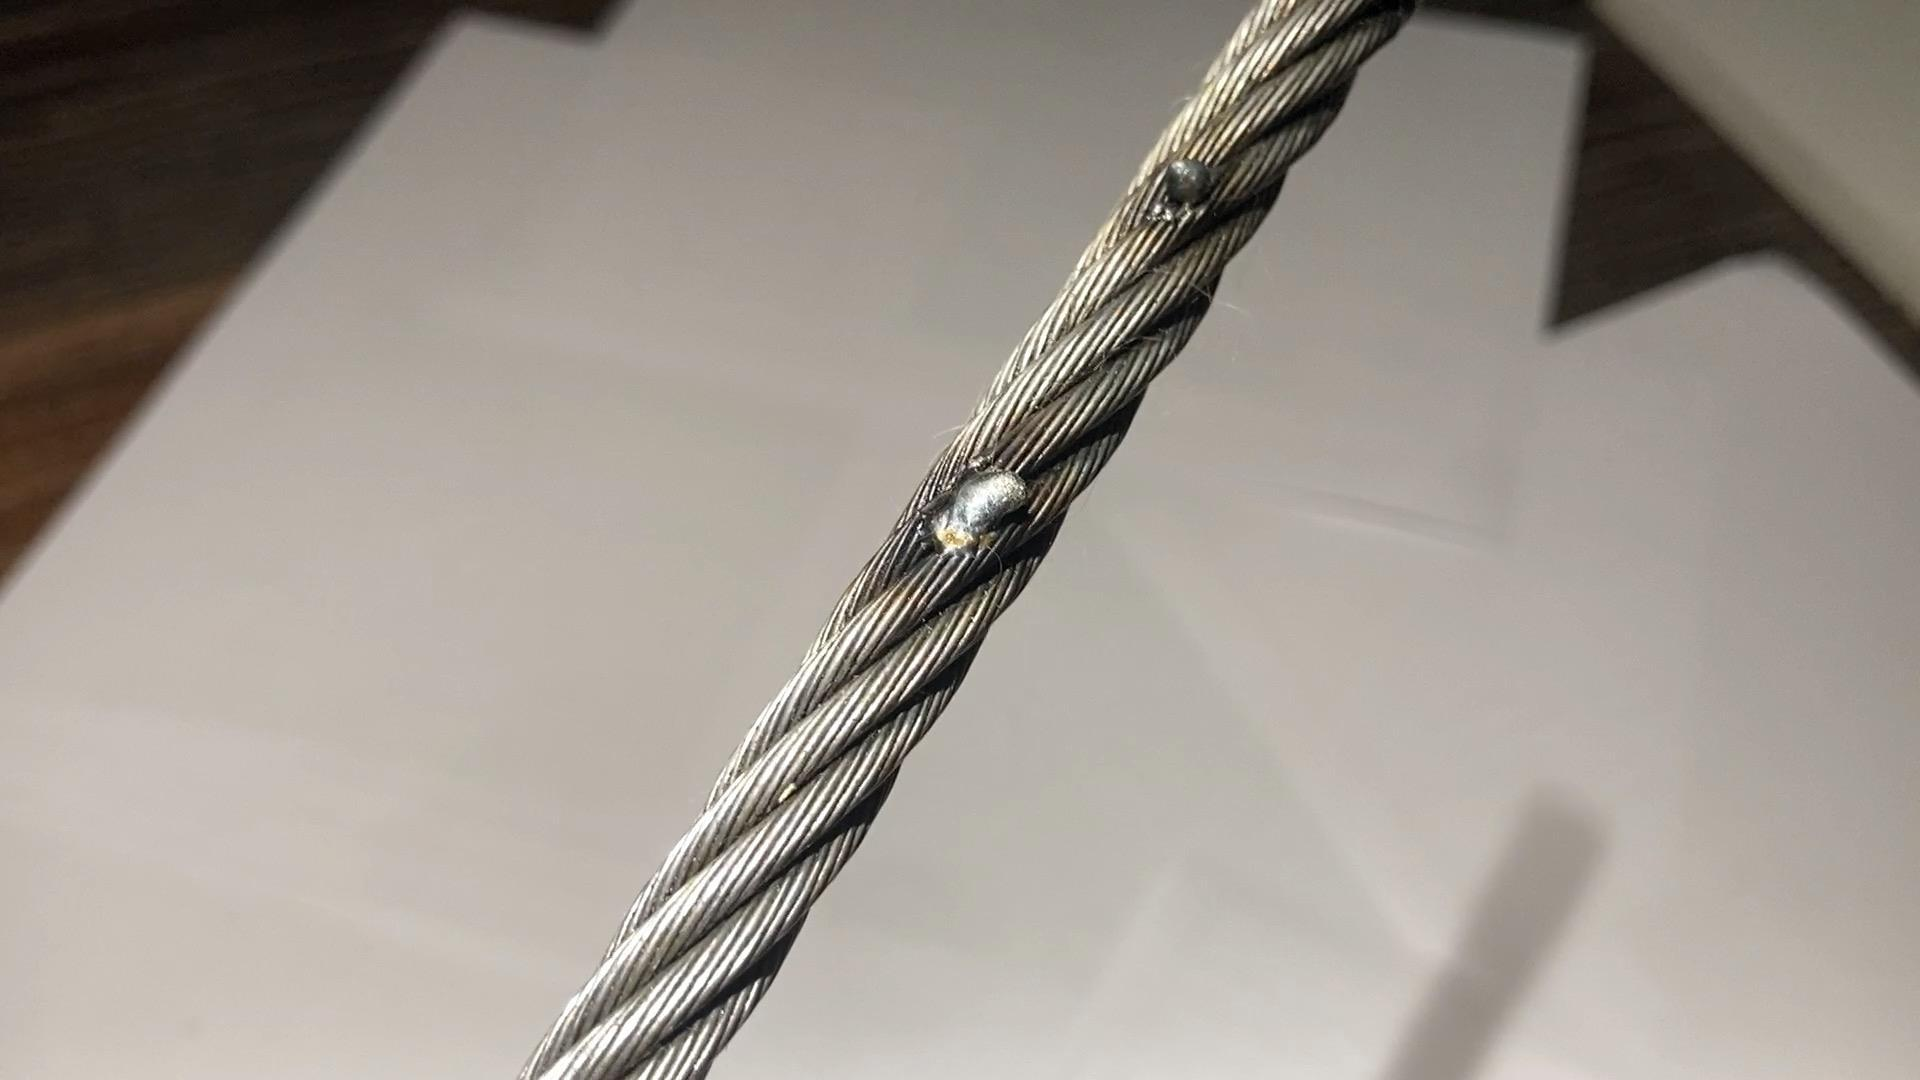thunderbolt: (935, 477, 1034, 563), (1145, 150, 1234, 220)
